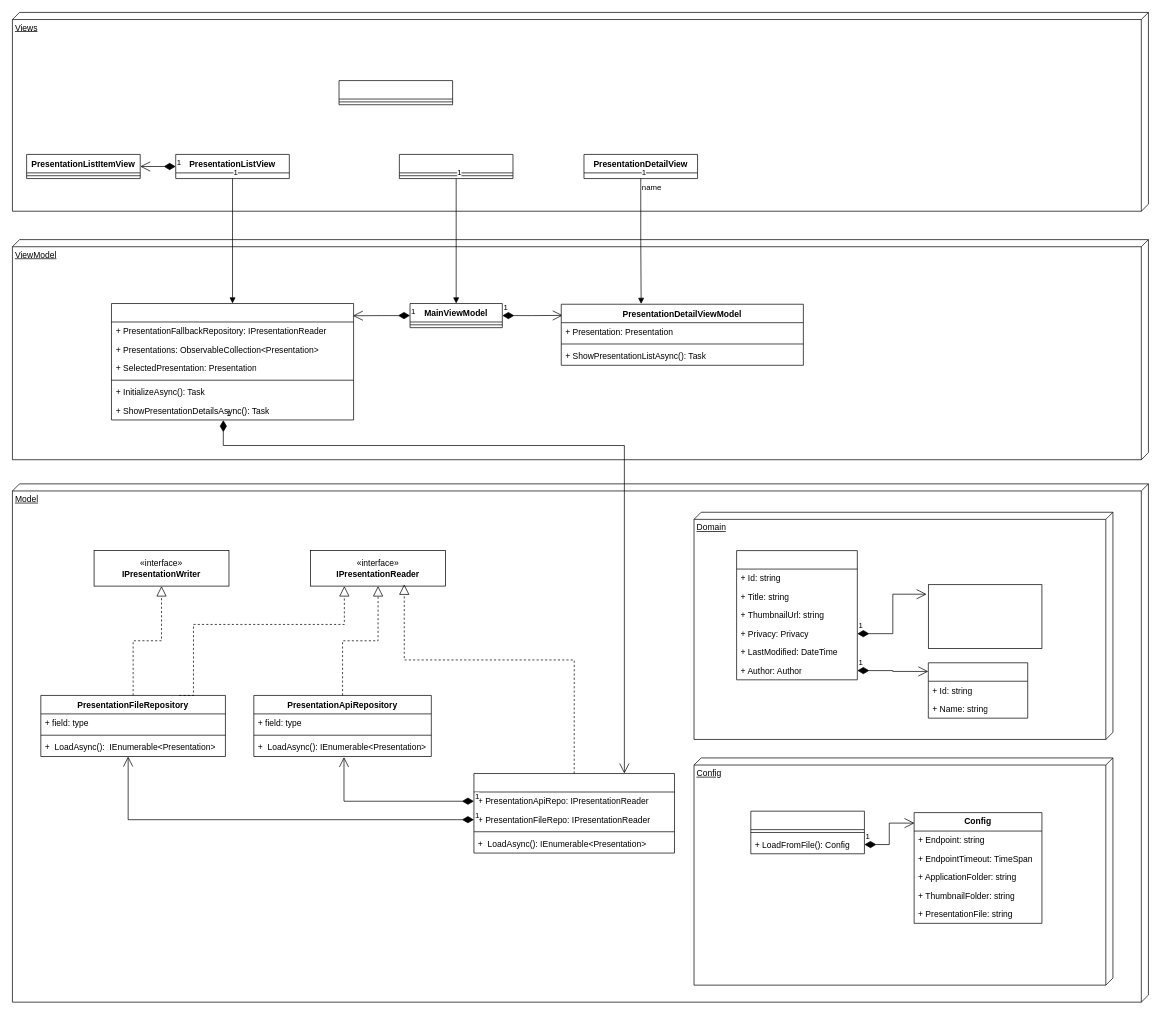
The diagram is 1161 pixels wide and 1015 high, and some of its shapes have lost their labels. The shapes that lost their labels are listed below. From the top down, each one's box as (x1, y1, x2, y2) in pixels, then its label:
(338, 80, 453, 105): StatusBar
(399, 154, 513, 179): MainView
(111, 303, 354, 420): PresentationListViewModel
(736, 550, 857, 680): Presentation
(928, 584, 1042, 649): Privacy:Enum Public Private Hidden
(928, 662, 1028, 718): Author
(473, 773, 674, 853): PresentationFal lbackRepository
(750, 810, 864, 854): ConfigManager
